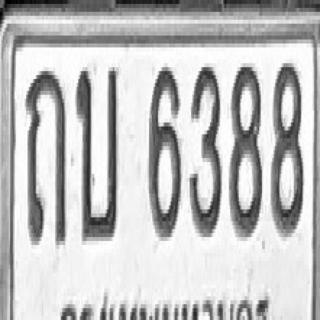A22: (24, 67, 66, 245)
A26: (75, 63, 119, 241)
N03: (188, 61, 222, 235)
N06: (148, 63, 181, 237)
N08: (270, 57, 303, 235), (229, 61, 262, 235)
